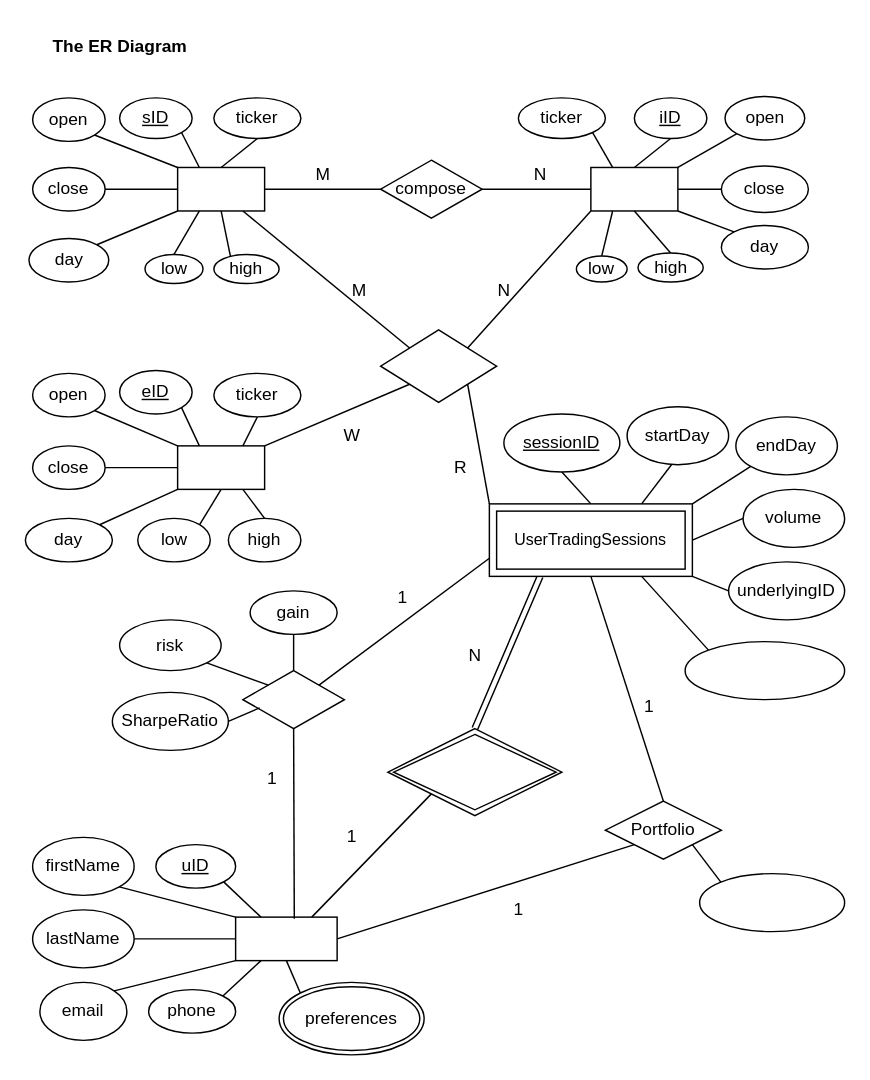
This 870x1080 diagram has some shape labels left out. The box of each missing label's shape, as (x1, y1, x2, y2) in pixels:
assetAllocation: (698, 872, 845, 932)
contain: (379, 328, 497, 402)
ETFs: (176, 444, 265, 489)
Indices: (589, 166, 678, 211)
manage: (386, 727, 562, 816)
positionLS: (684, 640, 845, 700)
Result: (241, 669, 344, 729)
Stocks: (176, 166, 265, 211)
Users: (234, 916, 337, 961)
